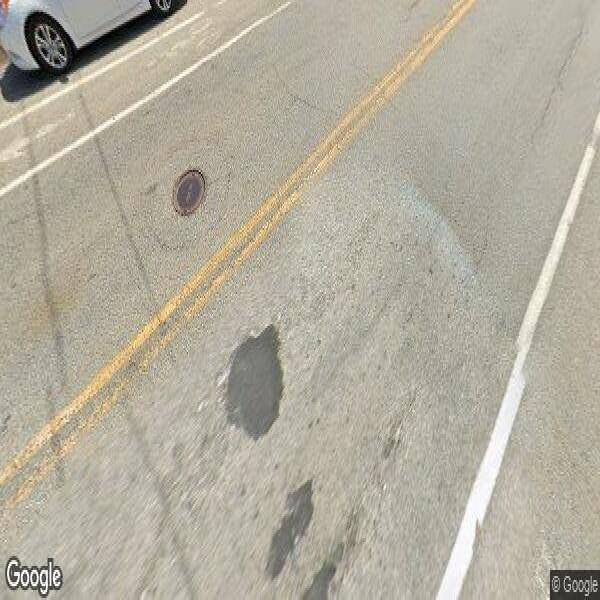manhole: (167, 162, 212, 228)
